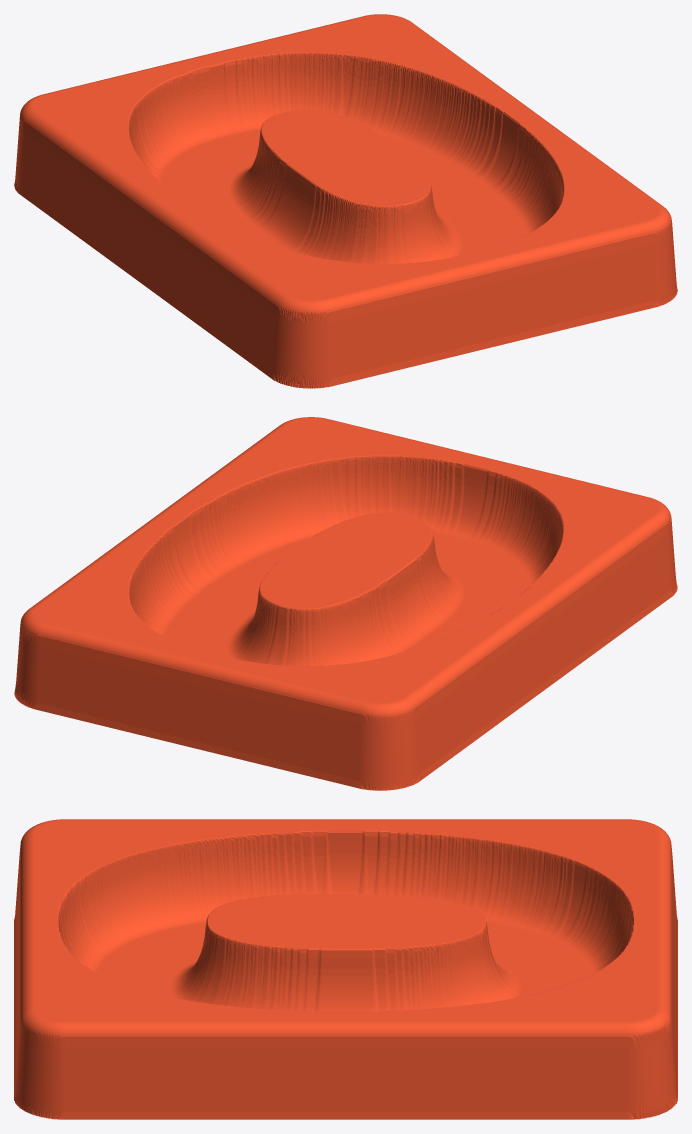
Rendered from mold.glb.
The picture shows the model from 3 angles, top to bottom: view 1: azimuth 30°, elevation 25°; view 2: azimuth 150°, elevation 25°; view 3: azimuth 270°, elevation 25°; orthographic projection. The views are drawn at different scales.
Visible parts, largest first — view 1: geometry_0; view 2: geometry_0; view 3: geometry_0.
Boxes of the visible parts, x1,y1,x2,y2 form: geometry_0: (14,14,677,388); geometry_0: (14,417,677,790); geometry_0: (14,819,677,1119).
Bounding box in the file's own units: 0.0916 × 0.0175 × 0.1178.
